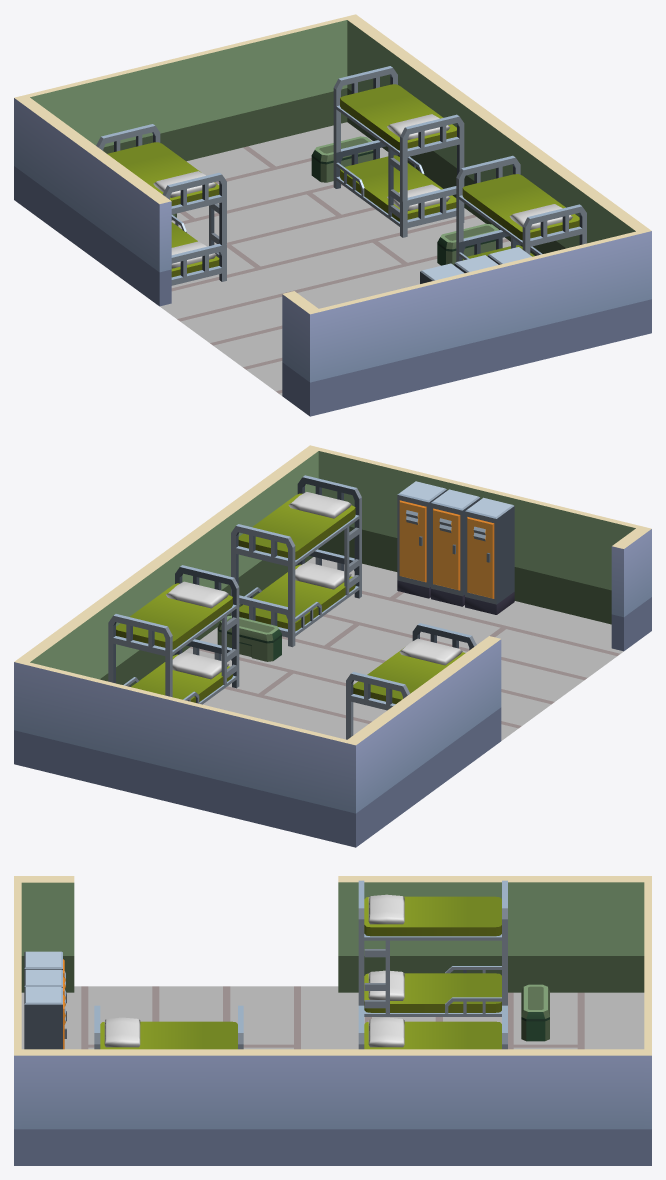
Rendered from Barrack_Lv2_a_Right.fbx.
The picture shows the model from 3 angles, top to bottom: view 1: azimuth 30°, elevation 25°; view 2: azimuth 150°, elevation 25°; view 3: azimuth 270°, elevation 25°; orthographic projection. The views are drawn at different scales.
Parts seen in each view (by area): view 1: Barrack_Lv2_a_Right13, Barrack_Lv2_a_Right3, Barrack_Lv2_a_Right14, Barrack_Lv2_a_Right2, Barrack_Lv2_a_Right7, Barrack_Lv2_a_Right17, Barrack_Lv2_a_Right19, Barrack_Lv2_a_Right16, Barrack_Lv2_a_Right12, Barrack_Lv2_a_Right9, Barrack_Lv2_a_Right15; view 2: Barrack_Lv2_a_Right14, Barrack_Lv2_a_Right13, Barrack_Lv2_a_Right3, Barrack_Lv2_a_Right2, Barrack_Lv2_a_Right7, Barrack_Lv2_a_Right16, Barrack_Lv2_a_Right17, Barrack_Lv2_a_Right1, Barrack_Lv2_a_Right19, Barrack_Lv2_a_Right12, Barrack_Lv2_a_Right8, Barrack_Lv2_a_Right5 (+1 smaller); view 3: Barrack_Lv2_a_Right7, Barrack_Lv2_a_Right2, Barrack_Lv2_a_Right13, Barrack_Lv2_a_Right19, Barrack_Lv2_a_Right12, Barrack_Lv2_a_Right16, Barrack_Lv2_a_Right17, Barrack_Lv2_a_Right5, Barrack_Lv2_a_Right3, Barrack_Lv2_a_Right14, Barrack_Lv2_a_Right10, Barrack_Lv2_a_Right1 (+1 smaller).
Part boxes in pixels (x1,y1,x2,y2): Barrack_Lv2_a_Right13: (160, 122, 510, 395); Barrack_Lv2_a_Right3: (306, 231, 639, 416); Barrack_Lv2_a_Right14: (26, 15, 354, 161); Barrack_Lv2_a_Right2: (14, 95, 171, 306); Barrack_Lv2_a_Right7: (344, 14, 651, 335); Barrack_Lv2_a_Right17: (333, 66, 464, 237); Barrack_Lv2_a_Right19: (96, 124, 226, 285); Barrack_Lv2_a_Right16: (456, 155, 586, 261); Barrack_Lv2_a_Right12: (282, 291, 322, 416); Barrack_Lv2_a_Right9: (311, 136, 373, 182); Barrack_Lv2_a_Right15: (437, 223, 498, 265); Barrack_Lv2_a_Right14: (14, 659, 358, 847); Barrack_Lv2_a_Right13: (184, 557, 623, 740); Barrack_Lv2_a_Right3: (318, 448, 651, 633); Barrack_Lv2_a_Right2: (344, 636, 501, 847); Barrack_Lv2_a_Right7: (14, 445, 321, 686); Barrack_Lv2_a_Right16: (231, 475, 361, 647); Barrack_Lv2_a_Right17: (108, 565, 239, 704); Barrack_Lv2_a_Right1: (465, 497, 514, 614); Barrack_Lv2_a_Right19: (346, 623, 476, 739); Barrack_Lv2_a_Right12: (611, 526, 648, 651); Barrack_Lv2_a_Right8: (431, 489, 480, 606); Barrack_Lv2_a_Right5: (397, 481, 446, 598); Barrack_Lv2_a_Right7: (14, 1049, 651, 1165); Barrack_Lv2_a_Right2: (338, 876, 651, 992); Barrack_Lv2_a_Right13: (21, 986, 644, 1049); Barrack_Lv2_a_Right19: (358, 880, 507, 1016); Barrack_Lv2_a_Right12: (14, 876, 74, 992); Barrack_Lv2_a_Right16: (94, 1005, 243, 1049); Barrack_Lv2_a_Right17: (358, 1005, 507, 1049); Barrack_Lv2_a_Right5: (24, 987, 66, 1049); Barrack_Lv2_a_Right3: (14, 876, 21, 1165); Barrack_Lv2_a_Right14: (644, 882, 651, 1165); Barrack_Lv2_a_Right10: (521, 984, 549, 1041); Barrack_Lv2_a_Right1: (24, 951, 66, 1003).
Bounding box in the file's own units: 700 × 212 × 1050.
